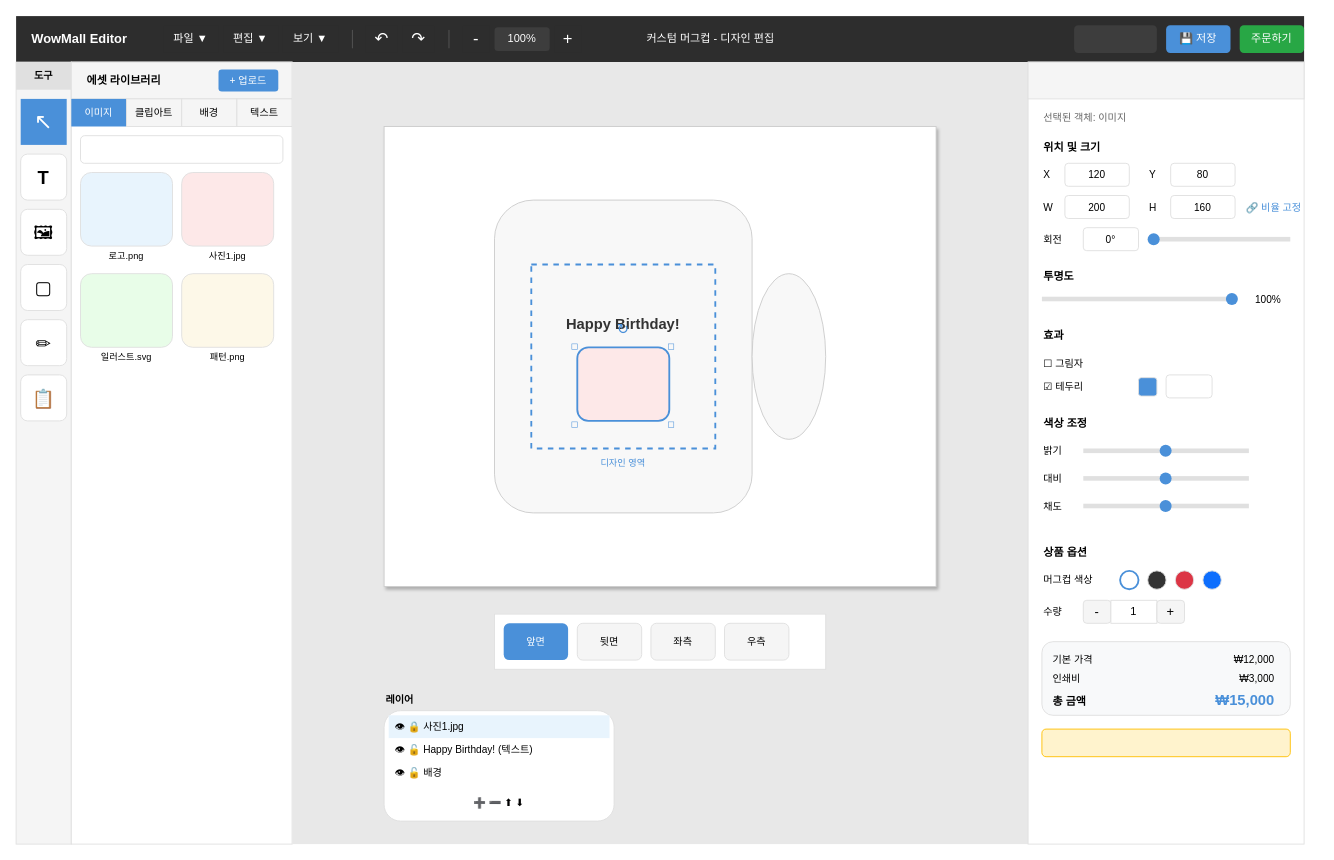
Image size: 1334x860. Some labels were removed from this diagram. Each missing label, with the centre of its shape:
"2px" goes at pixel 1188 386.
"⚠️ 디자인이 인쇄 영역을 벗어났습니다" goes at pixel 1165 742.
"속성" goes at pixel 1165 80.
"👁 미리보기" goes at pixel 1115 38.
"🔍 에셋 검색..." goes at pixel 181 149.
